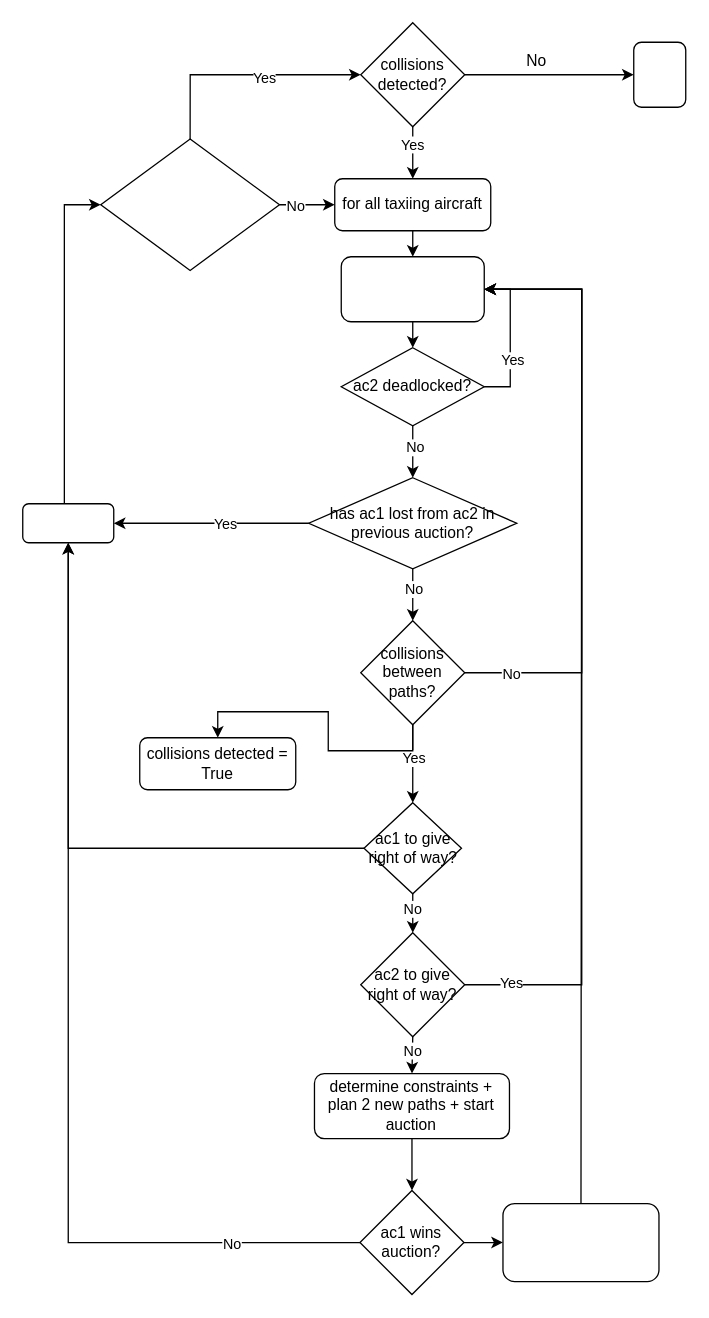
This 709x1318 diagram has some shape labels left out. Each missing label, with the centre of its shape:
"ac1 was last AC in aircraft list?" goes at point 189,204.
"for all aircraft (ac2) in observation space of ac1" goes at point 412,288.
"inform ac2 that it has lost from ac1" goes at point 580,1242.
"replan path" goes at point 67,522.
"Stop" goes at point 659,74.
